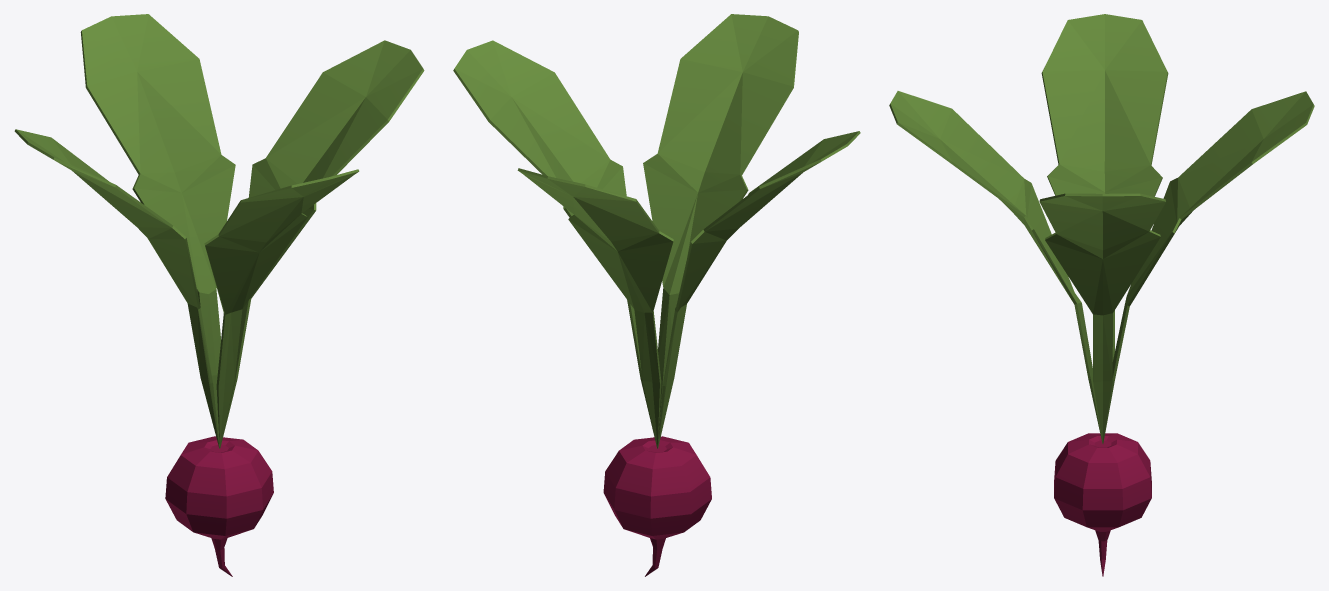
File: Crop_Radish_01.obj
The picture shows the model from 3 angles, left to right: view 1: azimuth 30°, elevation 25°; view 2: azimuth 150°, elevation 25°; view 3: azimuth 270°, elevation 25°; orthographic projection. The views are drawn at different scales.
Visible parts, largest first — view 1: Crop_Radish_01; view 2: Crop_Radish_01; view 3: Crop_Radish_01.
Boxes of the visible parts, box(x1,y1,x2,y2) form: Crop_Radish_01: box(14, 14, 424, 576); Crop_Radish_01: box(453, 14, 860, 576); Crop_Radish_01: box(889, 14, 1314, 576).
Size of the model in its own units: 0.2494 by 0.3006 by 0.248.
Materials: 1 (1 with a texture image).
